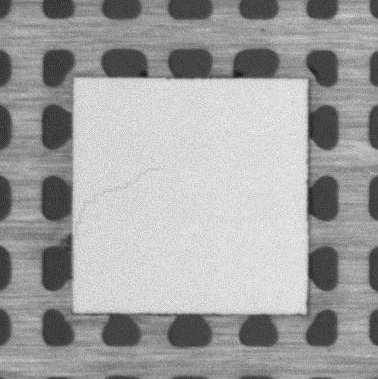DIE_CRACK: (75, 166, 160, 235)
